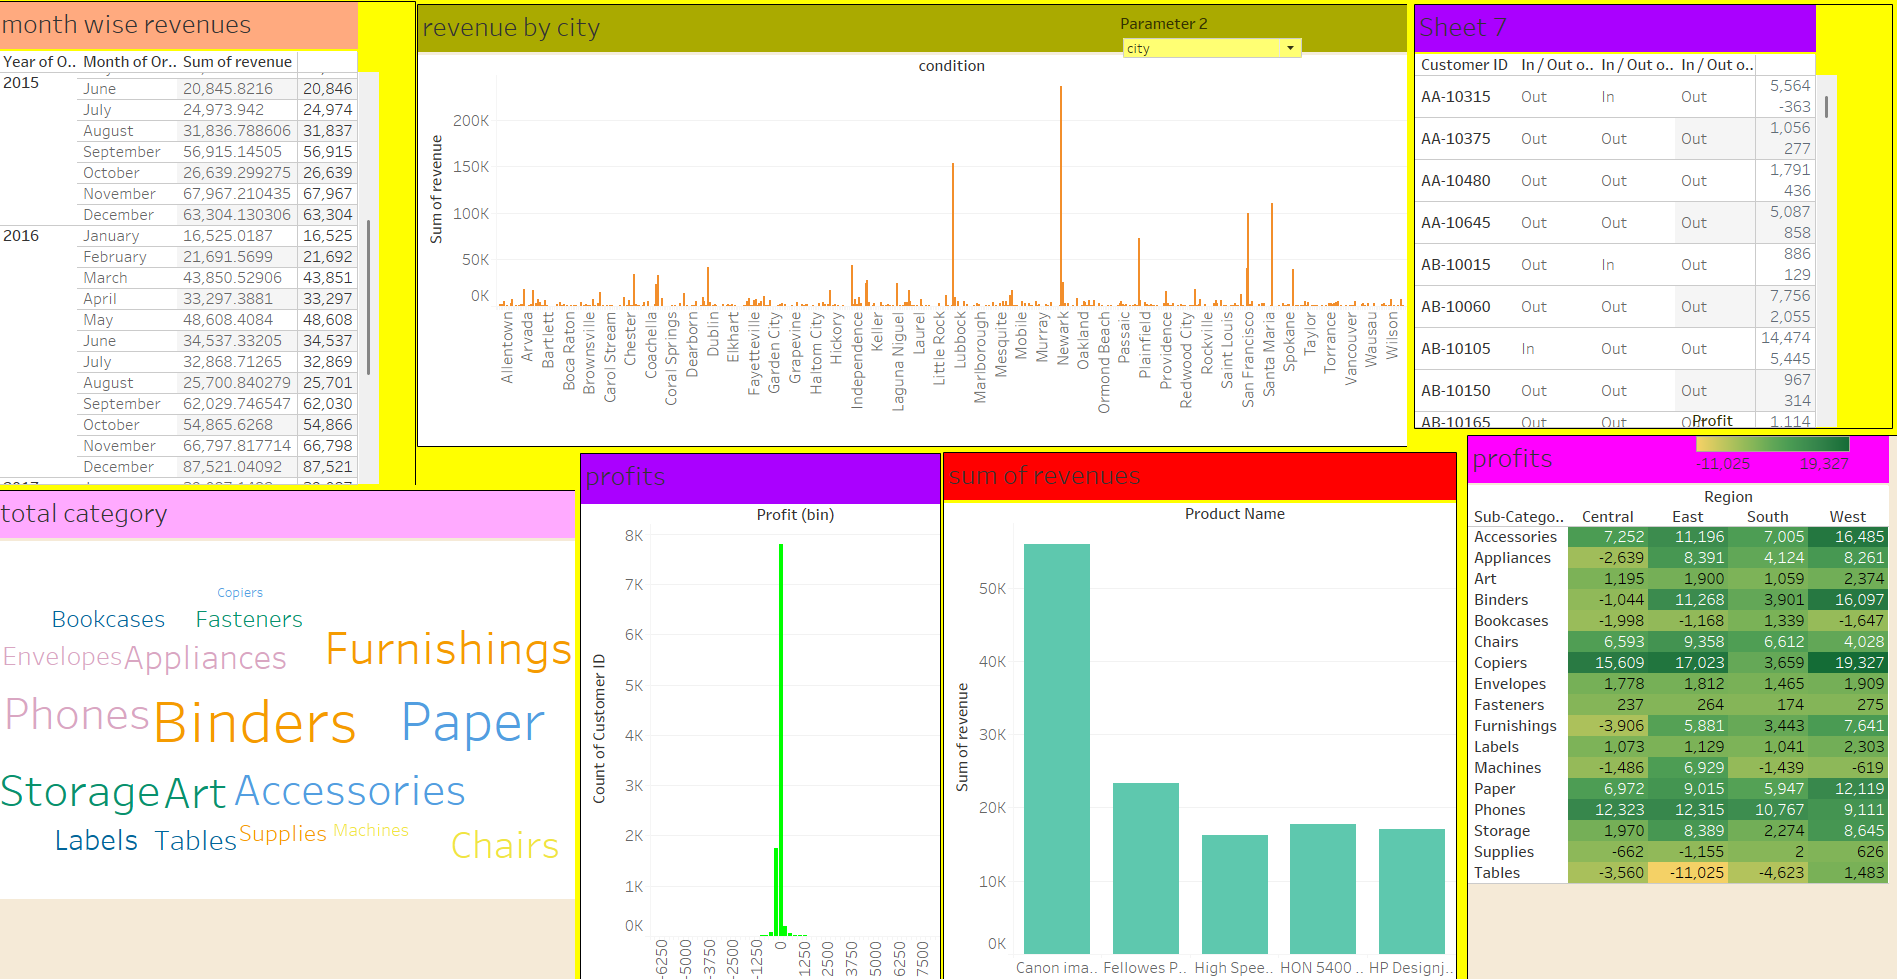

What the dashboard file says about the page in this screenshot:
{"tool":"tableau","page":{"name":"Dashboard 2","canvas":[1000,1000],"units":"permille","ordinal":1},"visuals":[{"type":"worksheet","title":"Sheet 10","mark":"Automatic","rows":["Order Date","Order Date","Calculation_645703613872226306"],"box":[0,3.8,218.6,488.1]},{"type":"worksheet","title":"Sheet 12","mark":"Automatic","rows":["Calculation_645703613872226306"],"cols":["Calculation_1939362608237662208"],"box":[219.1,7.5,516,445.7]},{"type":"worksheet","title":"Sheet 7","mark":"Automatic","rows":["Customer ID","Customer ID Set","Customer ID Set 2","Set 1"],"box":[738.7,7.5,249.2,428.2]},{"type":"parameter","param":"[Parameters].[Parameter 2]","box":[585.4,16.2,96.6,59.9]},{"type":"parameter","param":"[Parameters].[Parameter 1]","box":[387.4,112.4,96.6,88.6]},{"type":"legend","title":"Sheet 8","param":"[federated.0zs3n2703e50z90zrpjiu0lfyugy].[sum:Profit:qk]","box":[883.4,415.7,84.4,109.9]},{"type":"worksheet","title":"Sheet 11","mark":"Automatic","rows":["Calculation_645703613872226306"],"cols":["Product Name"],"box":[493,458.2,267.9,546.8]},{"type":"worksheet","title":"Sheet 6","mark":"Automatic","rows":["Customer ID"],"cols":["Profit (bin)"],"box":[304.2,459.4,188.2,533.1]}]}

Visuals, with their boxes on the dashboard's canvas, which has no fixed pixel size, in thousandths of its width and height (x1, y1, x2, y2). These are canvas units, not pixel positions in the 1897x979 screenshot, which may show the page scaled, cropped or inside an application window:
"Sheet 10" worksheet: left=0, top=4, right=219, bottom=492
"Sheet 12" worksheet: left=219, top=8, right=735, bottom=453
"Sheet 7" worksheet: left=739, top=8, right=988, bottom=436
parameter: left=585, top=16, right=682, bottom=76
parameter: left=387, top=112, right=484, bottom=201
"Sheet 8" legend: left=883, top=416, right=968, bottom=526
"Sheet 11" worksheet: left=493, top=458, right=761, bottom=1005
"Sheet 6" worksheet: left=304, top=459, right=492, bottom=992
